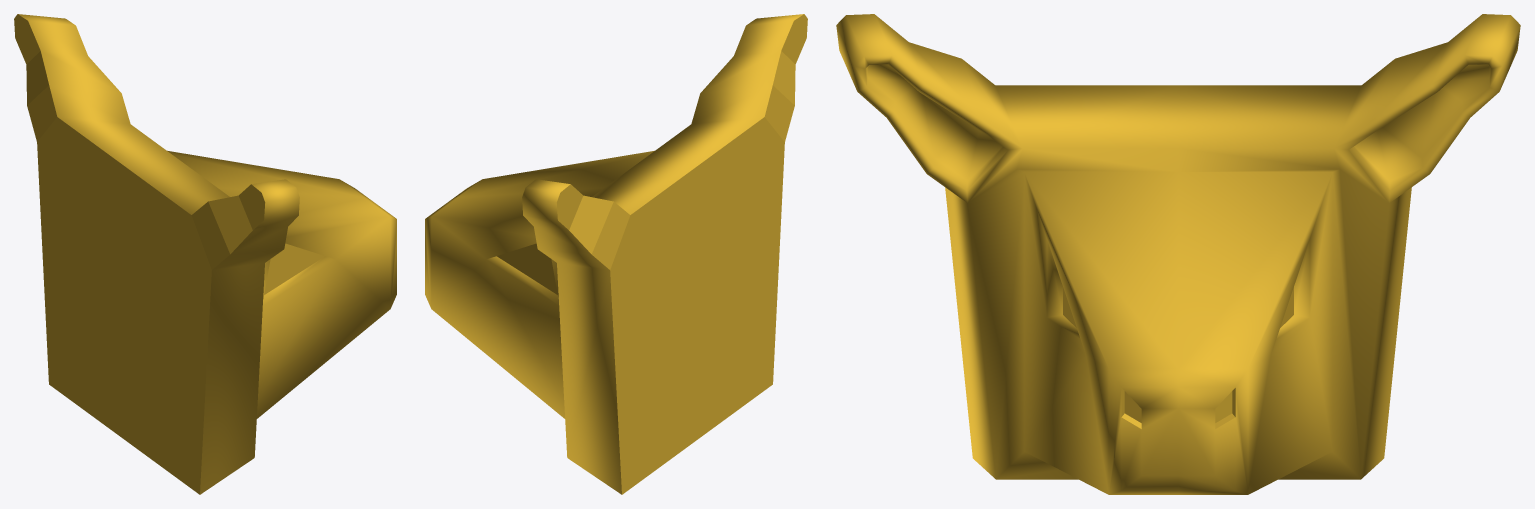
File: wall_decor_lamb_head.glb
3 views of the same model, side by side, from view 1: azimuth 30°, elevation 25°; view 2: azimuth 150°, elevation 25°; view 3: azimuth 270°, elevation 25° (orthographic). The views are drawn at different scales.
Parts seen in each view (by area): view 1: Cube; view 2: Cube; view 3: Cube.
Boxes of the visible parts, x1=… form: Cube: x1=14, y1=14, x2=396, y2=494; Cube: x1=425, y1=14, x2=807, y2=494; Cube: x1=836, y1=14, x2=1520, y2=494.
Size of the model in its own units: 0.6004 by 0.7472 by 1.02.
